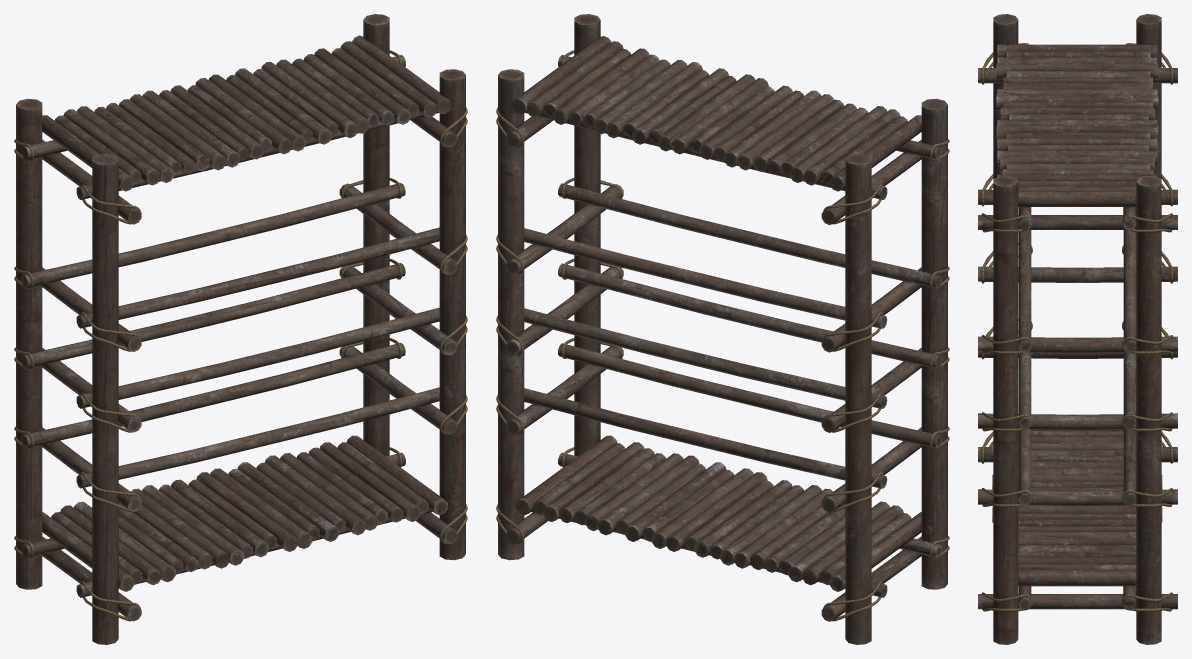
The model's file is CrudeShelf.gltf.
3 views of the same model, side by side, from view 1: azimuth 30°, elevation 25°; view 2: azimuth 150°, elevation 25°; view 3: azimuth 270°, elevation 25° (orthographic). The views are drawn at different scales.
Parts seen in each view (by area): view 1: SM_CrudeShelf_01; view 2: SM_CrudeShelf_01; view 3: SM_CrudeShelf_01.
Boxes of the visible parts, x1,y1,x2,y2 form: SM_CrudeShelf_01: [14, 14, 467, 644]; SM_CrudeShelf_01: [496, 14, 949, 644]; SM_CrudeShelf_01: [978, 14, 1177, 644].
Size of the model in its own units: 1.74 by 2.11 by 0.832.
1 material, 1 textured.
